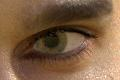eye: (37, 31, 66, 53)
